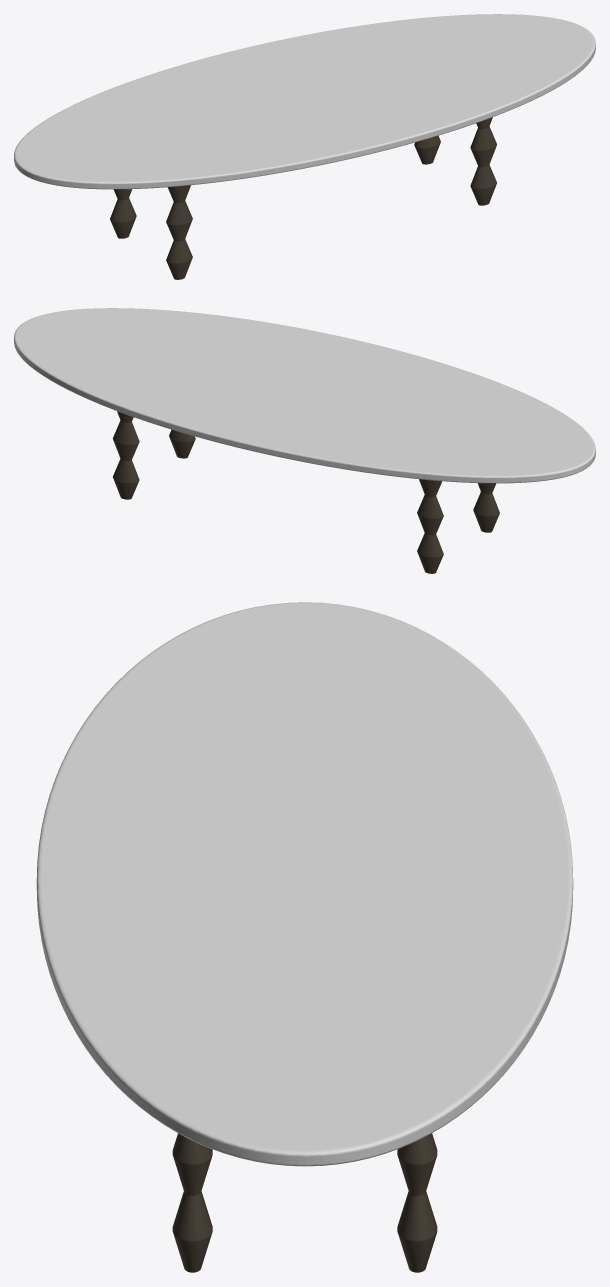
File: CGT_Coffee-Table_16.glb
3 renders of one model, top to bottom at view 1: azimuth 30°, elevation 25°; view 2: azimuth 150°, elevation 25°; view 3: azimuth 270°, elevation 25°, orthographic. The views are drawn at different scales.
Visible parts, largest first — view 1: Coffee-Table_16; view 2: Coffee-Table_16; view 3: Coffee-Table_16.
Part boxes in pixels (bbox=[...]): Coffee-Table_16: bbox=[14, 14, 595, 279]; Coffee-Table_16: bbox=[14, 308, 595, 573]; Coffee-Table_16: bbox=[36, 602, 573, 1272].
Size of the model in its own units: 1.58 by 0.3237 by 0.6469.
